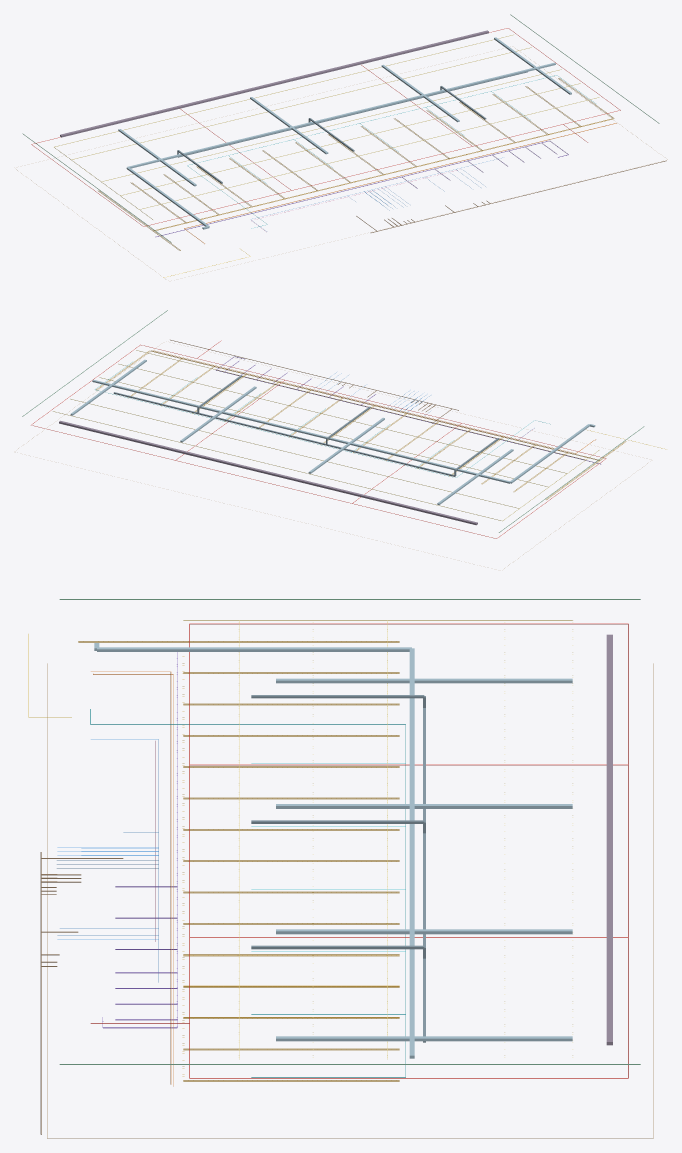
The model's file is mep.glb.
3 renders of one model, top to bottom at view 1: azimuth 30°, elevation 25°; view 2: azimuth 150°, elevation 25°; view 3: azimuth 270°, elevation 25°, orthographic. The views are drawn at different scales.
Parts seen in each view (by area): view 1: WEB-MEP-F-SMOKE-S-001, WEB-MEP-E-LIGHT-S-003, WEB-MEP-E-LIGHT-S-010, WEB-MEP-E-LIGHT-S-009, WEB-MEP-E-LIGHT-S-005, WEB-MEP-E-LIGHT-S-007, WEB-MEP-M-VENT-S-009, WEB-MEP-M-VENT-S-006; view 2: WEB-MEP-F-SMOKE-S-001, WEB-MEP-E-LIGHT-S-010, WEB-MEP-E-LIGHT-S-003, WEB-MEP-E-LIGHT-S-009, WEB-MEP-E-LIGHT-S-005, WEB-MEP-E-LIGHT-S-007, WEB-MEP-M-VENT-S-006, WEB-MEP-M-VENT-S-009; view 3: WEB-MEP-F-SMOKE-S-001, WEB-MEP-M-VENT-S-002, WEB-MEP-M-VENT-S-014, WEB-MEP-M-VENT-S-005, WEB-MEP-M-VENT-S-011, WEB-MEP-F-FIRE-S-001, WEB-MEP-M-EXHAUST-S-007, WEB-MEP-F-FIRE-S-004, WEB-MEP-M-HEAT-S-003, WEB-MEP-M-VENT-S-013, WEB-MEP-M-VENT-S-004, WEB-MEP-M-VENT-S-010 (+1 smaller).
Boxes of the visible parts, left/top/right/bottom form: WEB-MEP-F-SMOKE-S-001: left=60, top=30, right=488, bottom=137; WEB-MEP-E-LIGHT-S-003: left=139, top=97, right=599, bottom=209; WEB-MEP-E-LIGHT-S-010: left=54, top=34, right=513, bottom=146; WEB-MEP-E-LIGHT-S-009: left=71, top=47, right=531, bottom=159; WEB-MEP-E-LIGHT-S-005: left=120, top=83, right=580, bottom=195; WEB-MEP-E-LIGHT-S-007: left=101, top=69, right=561, bottom=181; WEB-MEP-M-VENT-S-009: left=292, top=95, right=423, bottom=128; WEB-MEP-M-VENT-S-006: left=161, top=127, right=292, bottom=160; WEB-MEP-F-SMOKE-S-001: left=59, top=420, right=477, bottom=525; WEB-MEP-E-LIGHT-S-010: left=53, top=411, right=502, bottom=521; WEB-MEP-E-LIGHT-S-003: left=136, top=350, right=585, bottom=459; WEB-MEP-E-LIGHT-S-009: left=70, top=399, right=519, bottom=508; WEB-MEP-E-LIGHT-S-005: left=118, top=364, right=566, bottom=473; WEB-MEP-E-LIGHT-S-007: left=99, top=377, right=548, bottom=487; WEB-MEP-M-VENT-S-006: left=350, top=442, right=477, bottom=475; WEB-MEP-M-VENT-S-009: left=222, top=411, right=348, bottom=443; WEB-MEP-F-SMOKE-S-001: left=606, top=634, right=612, bottom=1045; WEB-MEP-M-VENT-S-002: left=97, top=647, right=411, bottom=651; WEB-MEP-M-VENT-S-014: left=412, top=1036, right=572, bottom=1041; WEB-MEP-M-VENT-S-005: left=412, top=678, right=572, bottom=683; WEB-MEP-M-VENT-S-011: left=412, top=929, right=572, bottom=934; WEB-MEP-F-FIRE-S-001: left=190, top=623, right=627, bottom=624; WEB-MEP-M-EXHAUST-S-007: left=251, top=945, right=424, bottom=949; WEB-MEP-F-FIRE-S-004: left=190, top=764, right=627, bottom=765; WEB-MEP-M-HEAT-S-003: left=170, top=672, right=171, bottom=1084; WEB-MEP-M-VENT-S-013: left=276, top=1036, right=411, bottom=1041; WEB-MEP-M-VENT-S-004: left=276, top=678, right=411, bottom=683; WEB-MEP-M-VENT-S-010: left=276, top=929, right=409, bottom=934.
Size of the model in its own units: 186 by 12.38 by 101.
